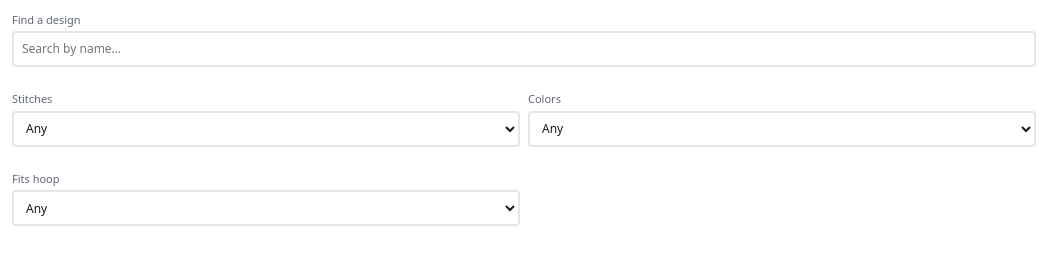
Test case: Clear filters resets all four and removes itself
Step 1. Select "Up to 2" in the dropdown labelled "Colors" → (782, 129), box [528,111,1036,147]
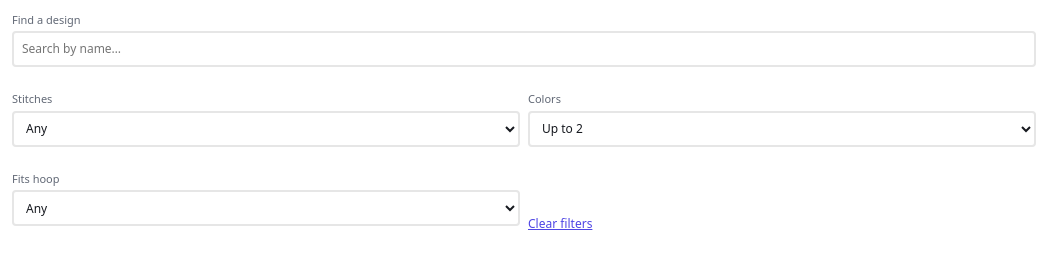
Step 2. Click the button "Clear filters" → (560, 224), box [528,206,592,242]
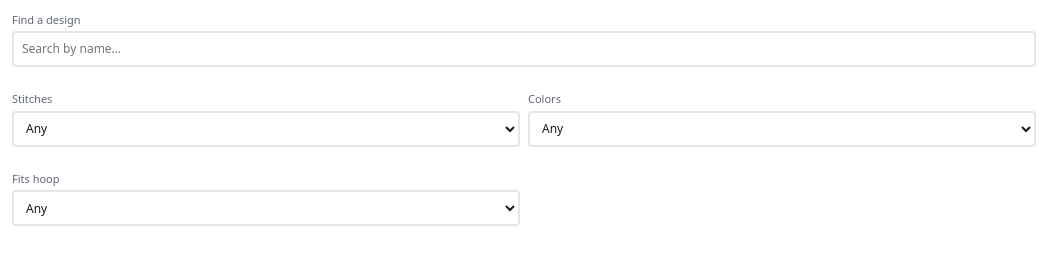
Now the button "Clear filters" is gone
